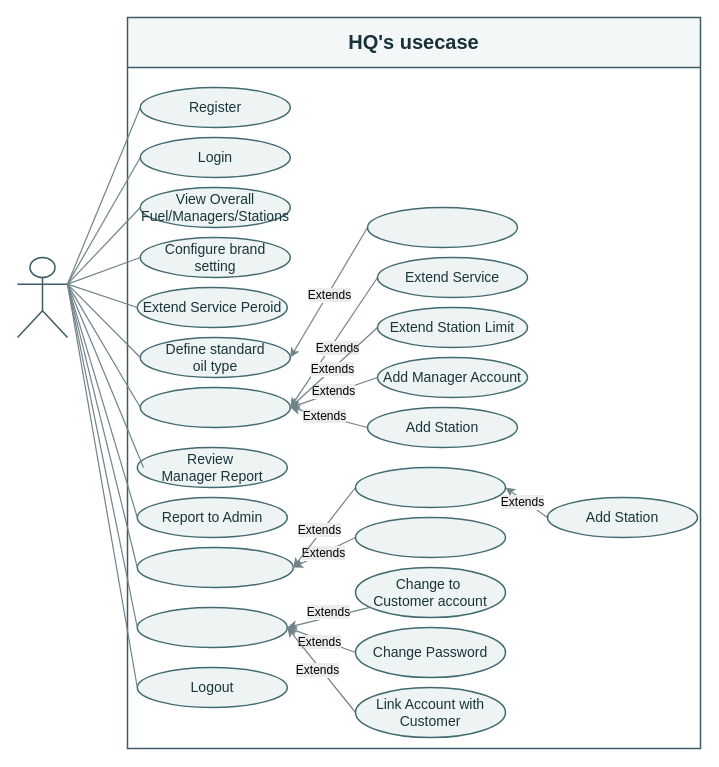
The diagram is 719 pixels wide and 767 high, and some of its shapes have lost their labels. Each missing label, with the centre of its shape:
Add Manager/Staff: point 430,487
Define Oil Price: point 442,227
Edit Profile: point 212,627
Edit/Disable Manager Account: point 430,537
HQ: point 42,297
Manage Employee Accounts: point 215,567
Manage Stations: point 215,407
